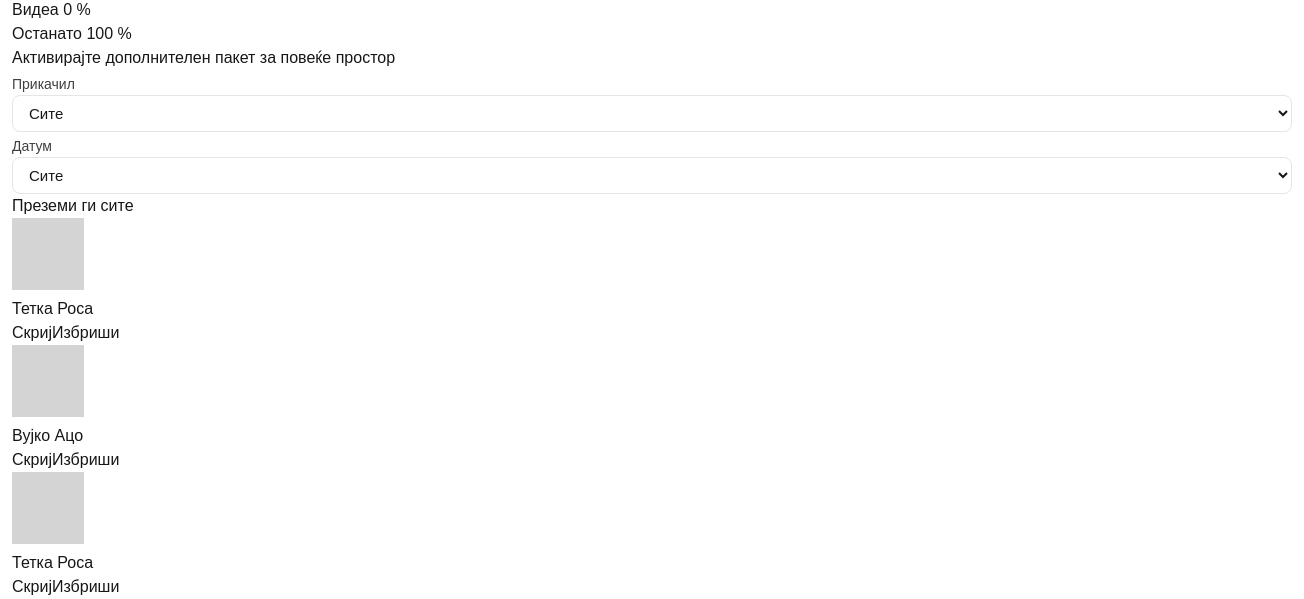
Test: AlbumClient › deletes a photo after confirmation
The width and height of the screenshot is (1304, 599).
(page scrolled)
Click the 3rd button "Избриши".
click(86, 587)  # box 52,575 -> 119,598
(page scrolled)
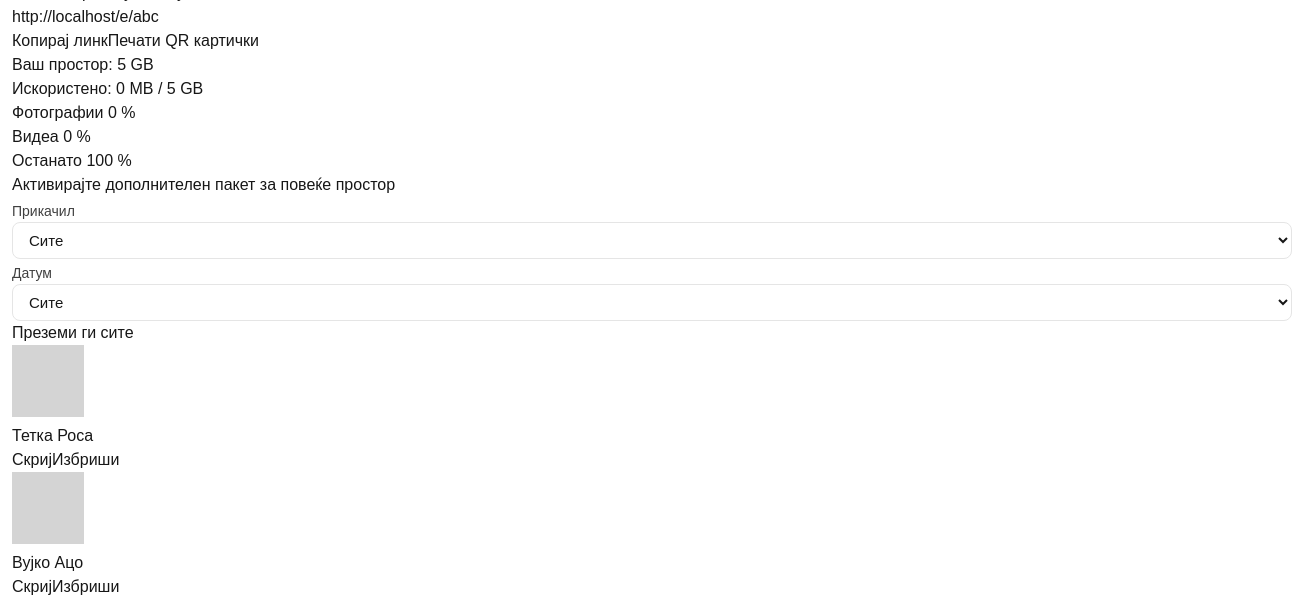
Now the list item with test id "photo-p1" is gone
